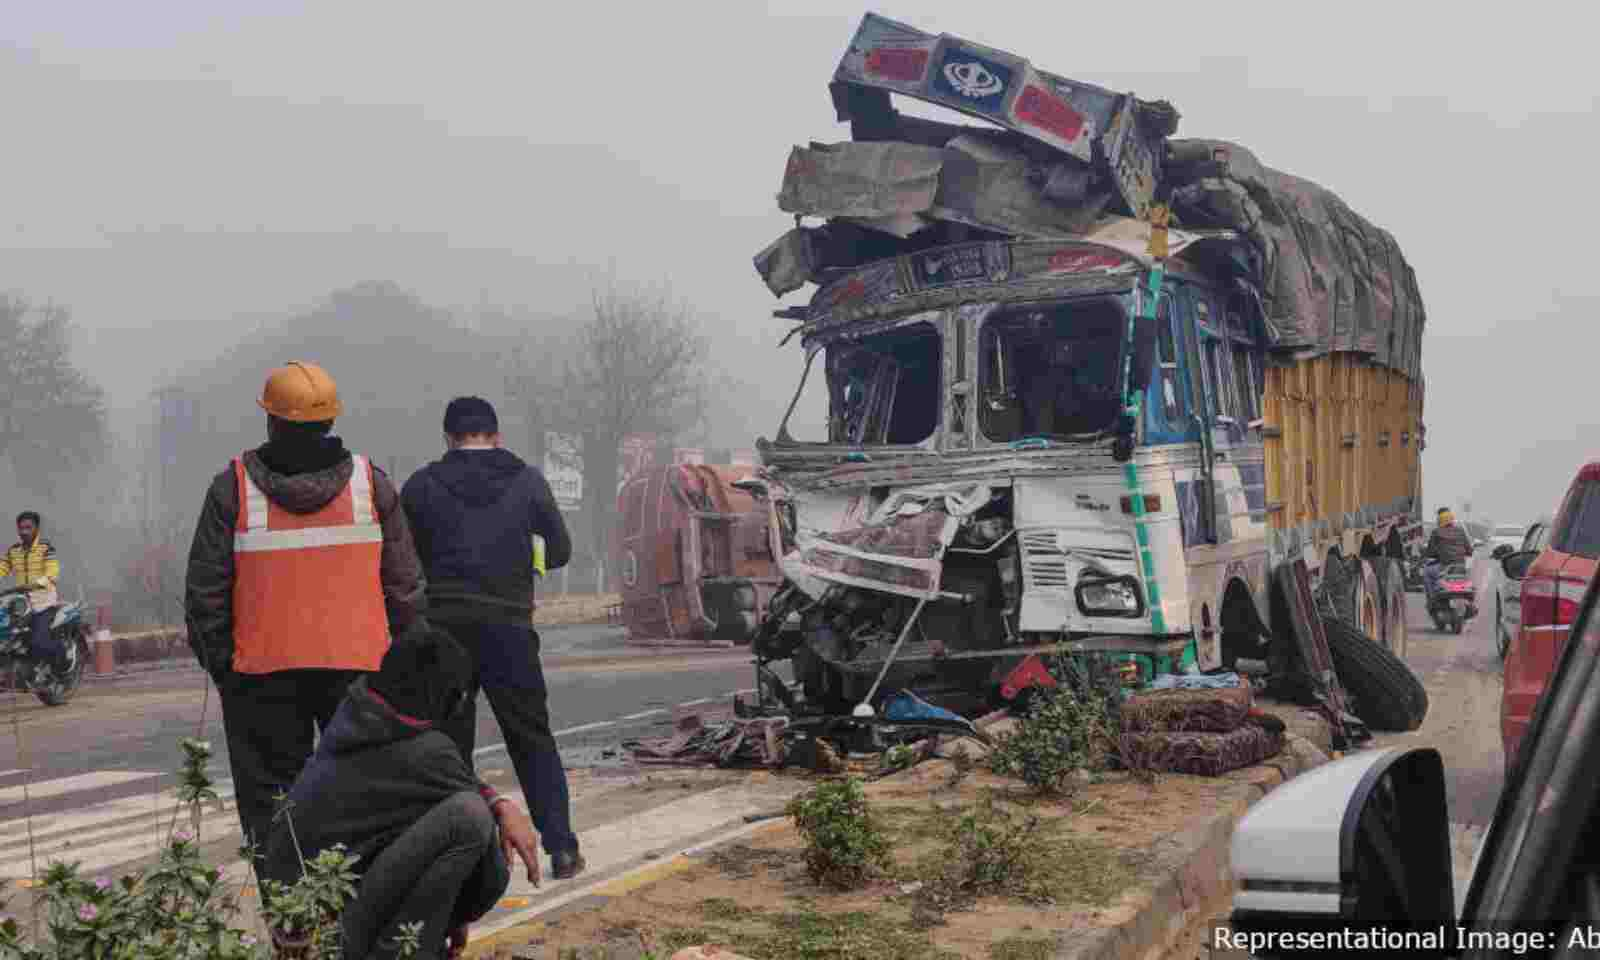accident: (715, 267, 1423, 811), (616, 464, 759, 645)
